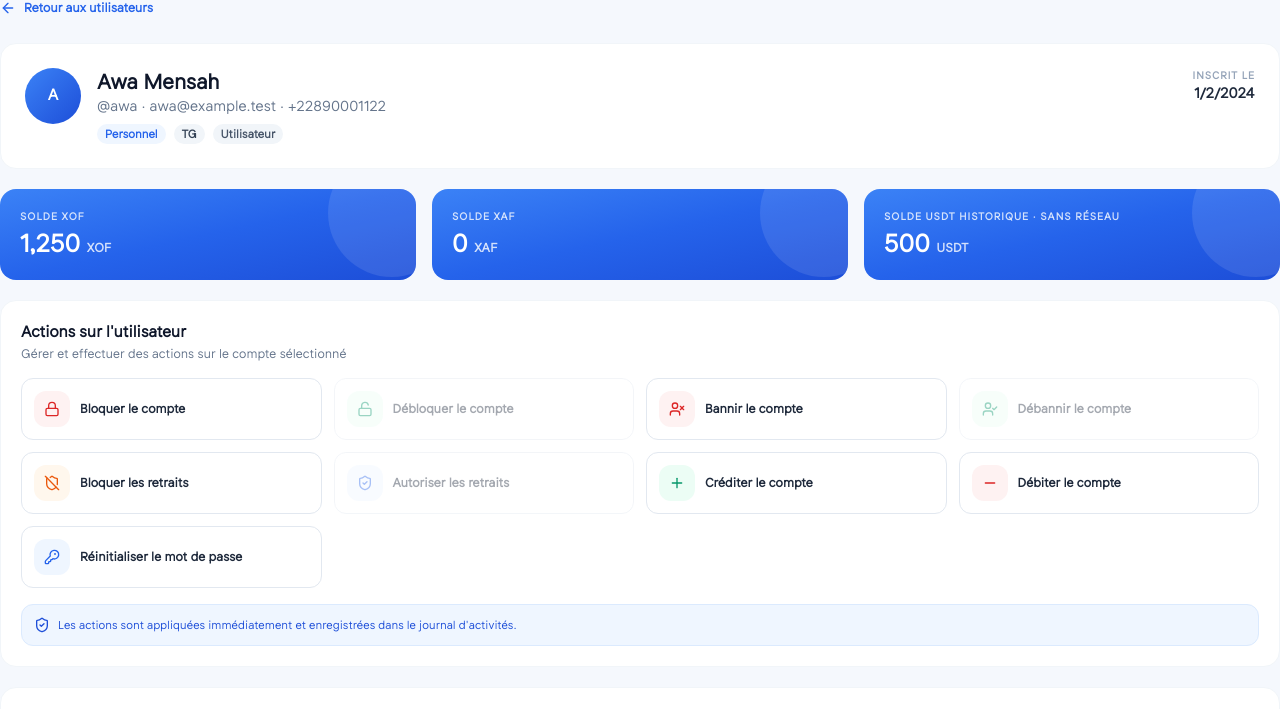
AdminUserDetail balance wallet selector › uses the exact crypto wallet id and sends asset_id with the existing confirmation fields
Later steps or results of the test are not shown.
Step 1. Click the button "Créditer le compte" → (796, 482), box [646, 452, 946, 514]
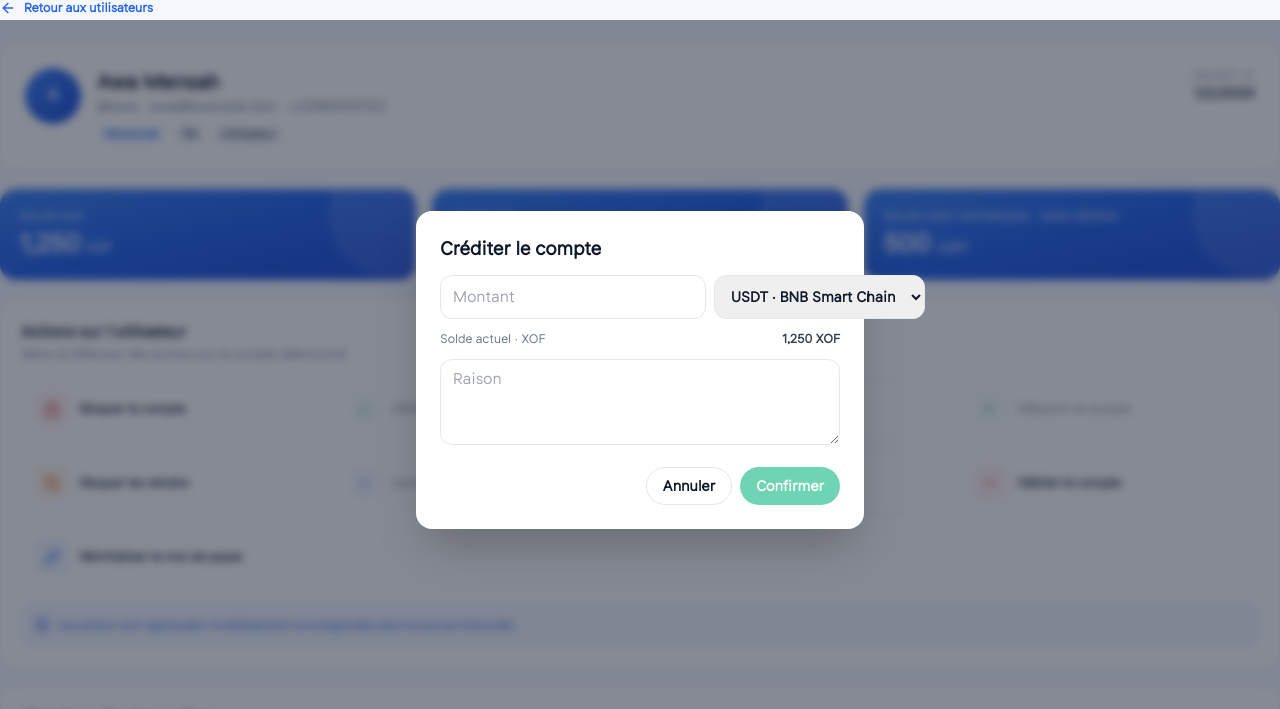
Step 2. Select "USDT · BNB Smart Chain" in the dropdown with test id "modal-currency" → (820, 297), box [714, 275, 925, 319]
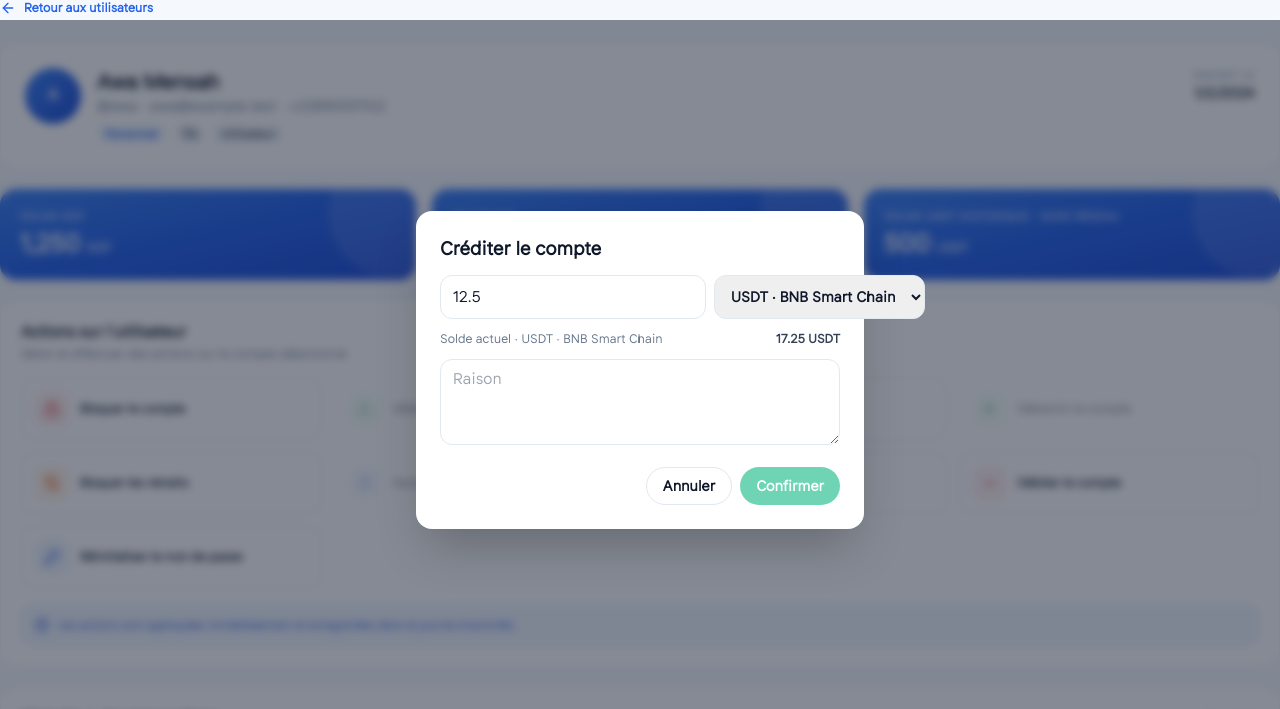
Expected: the element with test id "selected-wallet-balance" shows "17.25 USDT", [440, 331, 840, 347]
